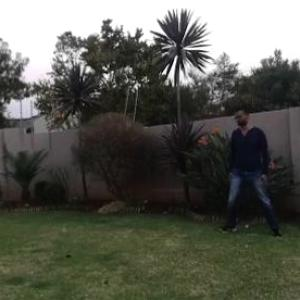follow: (228, 98, 268, 239)
